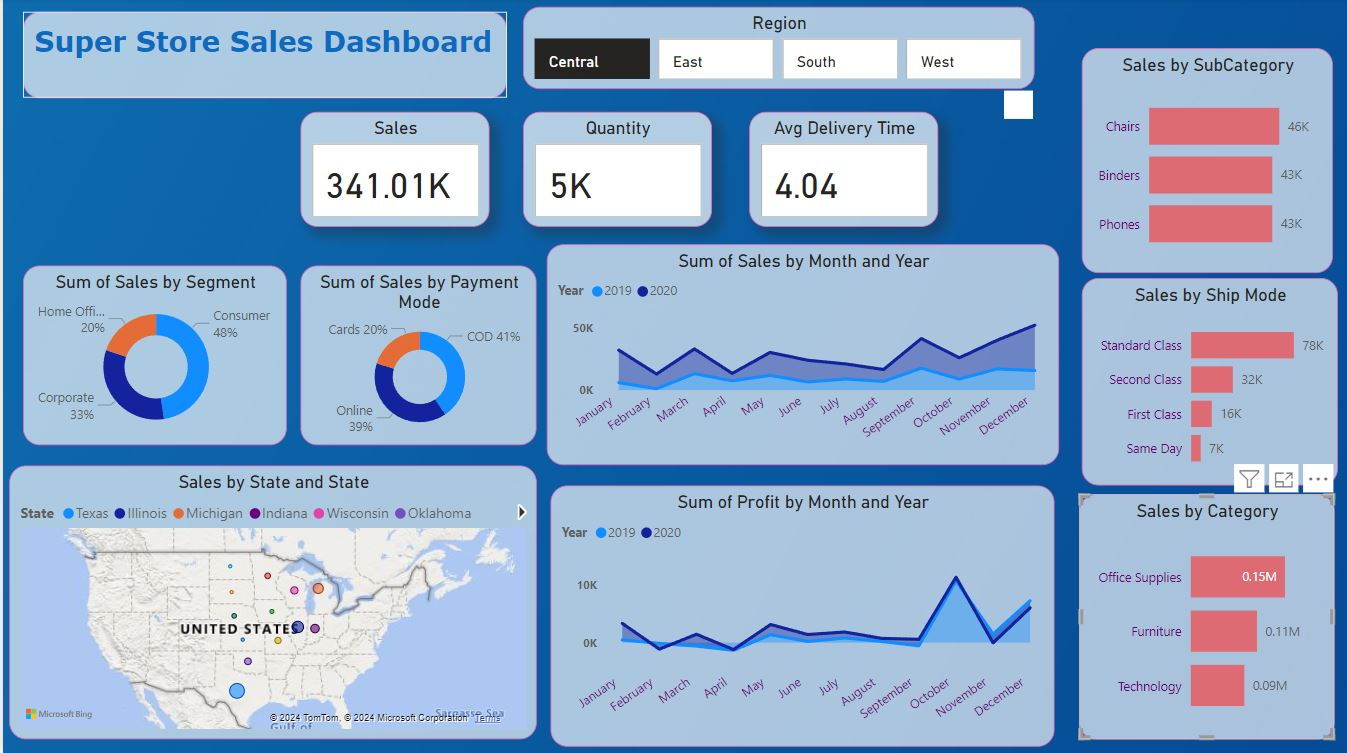

The page's visual inventory and layout, read from the dashboard file:
{"tool":"powerbi","page":{"name":"Page 1","canvas":[1280,720],"ordinal":0},"visuals":[{"type":"clusteredBarChart","title":"Sales by Category","fields":{"Category":["SuperStore_Sales_Dataset.Category"],"Y":["Sum(SuperStore_Sales_Dataset.Sales)"]},"box":[1035.7,479.8,242.9,233.3],"z":0},{"type":"clusteredBarChart","title":"Sales by SubCategory","fields":{"Category":["SuperStore_Sales_Dataset.Sub-Category"],"Y":["Sum(SuperStore_Sales_Dataset.Sales)"]},"box":[1040.5,47.6,239.3,214.3],"z":1000},{"type":"clusteredBarChart","title":"Sales by Ship Mode","fields":{"Category":["SuperStore_Sales_Dataset.Ship Mode"],"Y":["Sum(SuperStore_Sales_Dataset.Sales)"]},"box":[1035.7,273.8,244,197.6],"z":2000},{"type":"stackedAreaChart","fields":{"Category":["SuperStore_Sales_Dataset.Order Date.Variation.Date Hierarchy.Month","SuperStore_Sales_Dataset.Order Date.Variation.Date Hierarchy.Day"],"Y":["Sum(SuperStore_Sales_Dataset.Sales)"],"Series":["SuperStore_Sales_Dataset.Order Date.Variation.Date Hierarchy.Year"]},"box":[517.9,234.5,488.1,210.7],"z":3000},{"type":"stackedAreaChart","fields":{"Category":["SuperStore_Sales_Dataset.Order Date.Variation.Date Hierarchy.Month","SuperStore_Sales_Dataset.Order Date.Variation.Date Hierarchy.Day"],"Series":["SuperStore_Sales_Dataset.Order Date.Variation.Date Hierarchy.Year"],"Y":["Sum(SuperStore_Sales_Dataset.Profit)"]},"box":[521.4,464.3,479.8,248.8],"z":4000},{"type":"map","title":"Sales by State and State","fields":{"Category":["SuperStore_Sales_Dataset.State"],"Series":["SuperStore_Sales_Dataset.State"],"Size":["Sum(SuperStore_Sales_Dataset.Sales)"]},"box":[6,445.2,502.4,260.7],"z":5000},{"type":"donutChart","fields":{"Category":["SuperStore_Sales_Dataset.Segment"],"Y":["Sum(SuperStore_Sales_Dataset.Sales)"]},"box":[19,254.8,251.2,171.4],"z":6000},{"type":"donutChart","fields":{"Category":["SuperStore_Sales_Dataset.Payment Mode"],"Y":["Sum(SuperStore_Sales_Dataset.Sales)"]},"box":[283.3,254.8,225,171.4],"z":7000},{"type":"advancedSlicerVisual","fields":{"Values":["SuperStore_Sales_Dataset.Region"]},"box":[495.2,8.3,486.9,78.6],"z":8000},{"type":"textbox","box":[19,13.1,460.7,82.1],"z":9000},{"type":"cardVisual","title":"Sales","fields":{"Data":["Sum(SuperStore_Sales_Dataset.Sales)"]},"box":[283.3,108.3,179.8,109.5],"z":9001},{"type":"cardVisual","title":"Quantity","fields":{"Data":["Sum(SuperStore_Sales_Dataset.Quantity)"]},"box":[495.2,108.3,179.8,109.5],"z":9002},{"type":"cardVisual","title":"Avg Delivery Time","fields":{"Data":["Avg(SuperStore_Sales_Dataset.AvgDelivery)"]},"box":[710.7,108.3,179.8,109.5],"z":9003}]}

Visuals, with their boxes in screenshot pixels (x1, y1, x2, y2), scaled from the page's 1280x720 canvas onto the 1347x753 screenshot:
"Sales by Category" clusteredBarChart: 1090:502:1346:746
"Sales by SubCategory" clusteredBarChart: 1095:50:1346:274
"Sales by Ship Mode" clusteredBarChart: 1090:286:1346:493
stackedAreaChart - SuperStore_Sales_Dataset.Order Date.Variation.Date Hierarchy.Month x SuperStore_Sales_Dataset.Order Date.Variation.Date Hierarchy.Day: 545:245:1059:466
stackedAreaChart - SuperStore_Sales_Dataset.Order Date.Variation.Date Hierarchy.Month x SuperStore_Sales_Dataset.Order Date.Variation.Date Hierarchy.Day: 549:486:1054:746
"Sales by State and State" map: 6:466:535:738
donutChart - SuperStore_Sales_Dataset.Segment x Sum(SuperStore_Sales_Dataset.Sales): 20:266:284:446
donutChart - SuperStore_Sales_Dataset.Payment Mode x Sum(SuperStore_Sales_Dataset.Sales): 298:266:535:446
advancedSlicerVisual - SuperStore_Sales_Dataset.Region: 521:9:1034:91
textbox: 20:14:505:100
"Sales" cardVisual: 298:113:487:228
"Quantity" cardVisual: 521:113:710:228
"Avg Delivery Time" cardVisual: 748:113:937:228
